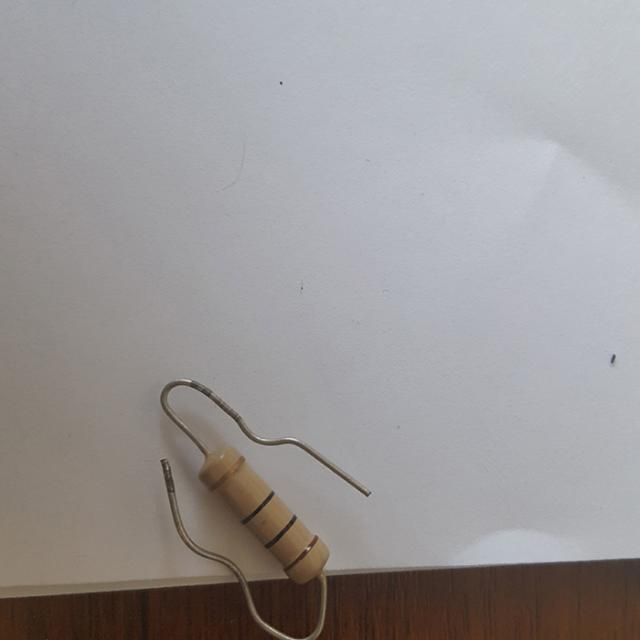black: (242, 490, 275, 524), (265, 514, 297, 548)
brown: (284, 536, 318, 571)
gold: (212, 458, 244, 488)
resistor: (182, 435, 346, 602)
